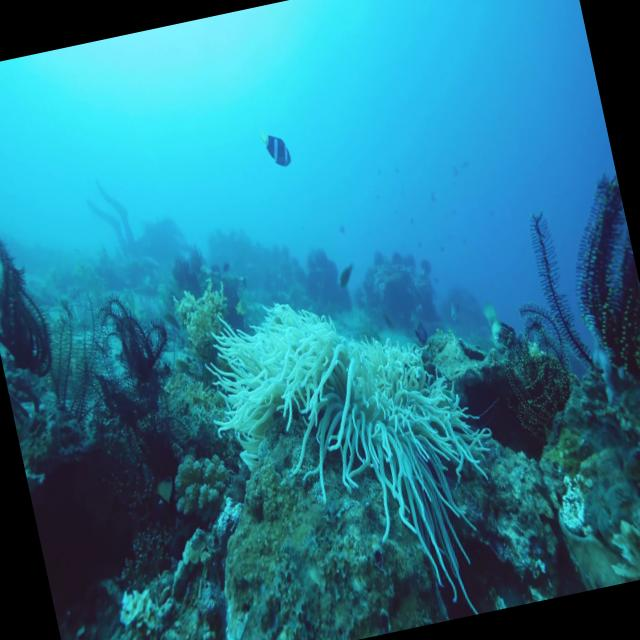fish: (252, 118, 298, 178)
